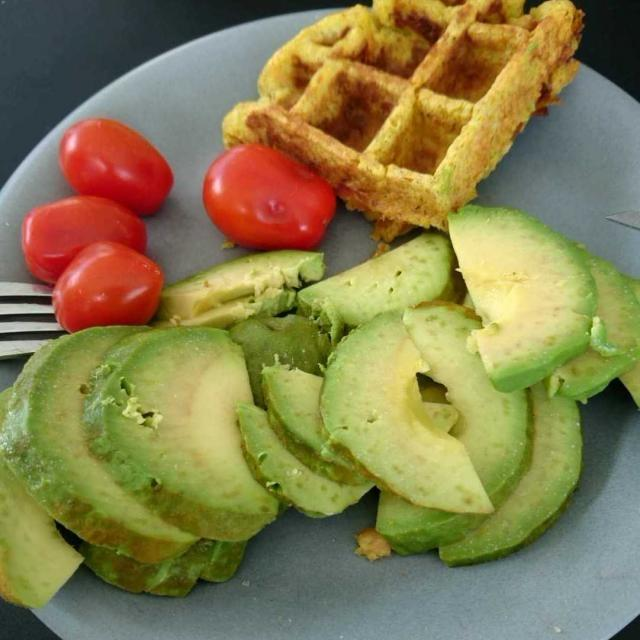avocado: (9, 203, 638, 615)
tomato: (10, 113, 335, 326)
waffle: (220, 5, 591, 235)
